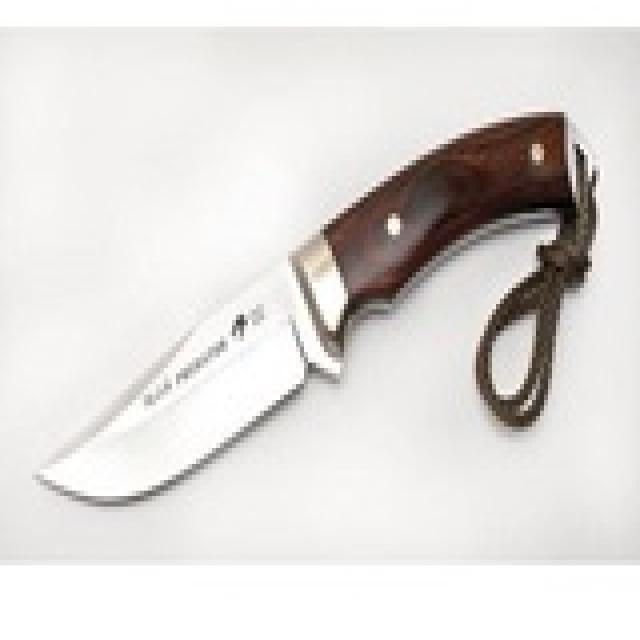Knife: (27, 104, 577, 517)
